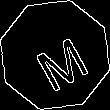M_NW: (22, 22, 88, 88)
